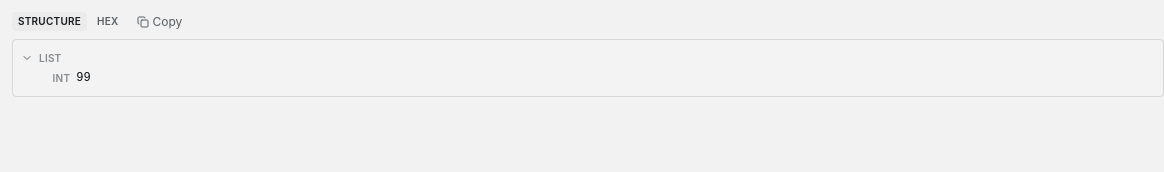
DatumPayload structure view › collapses and re-expands a subtree
The image size is (1164, 172).
expect the text "99" is shown: met, box x1=76 y1=70 x2=91 y2=86
Click the button named "Collapse".
click(27, 58)  # box x1=21 y1=52 x2=33 y2=64
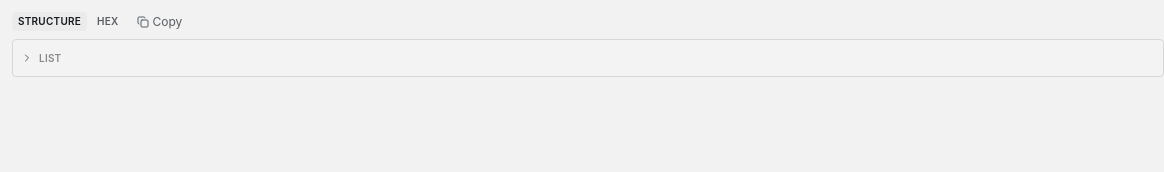
expect the text "99" is gone: met
Click the button named "Expand".
click(27, 58)  # box x1=21 y1=52 x2=33 y2=64
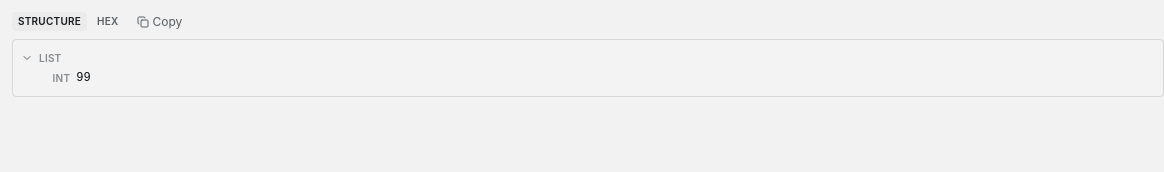
expect the text "99" is shown: met, box x1=76 y1=70 x2=91 y2=86
